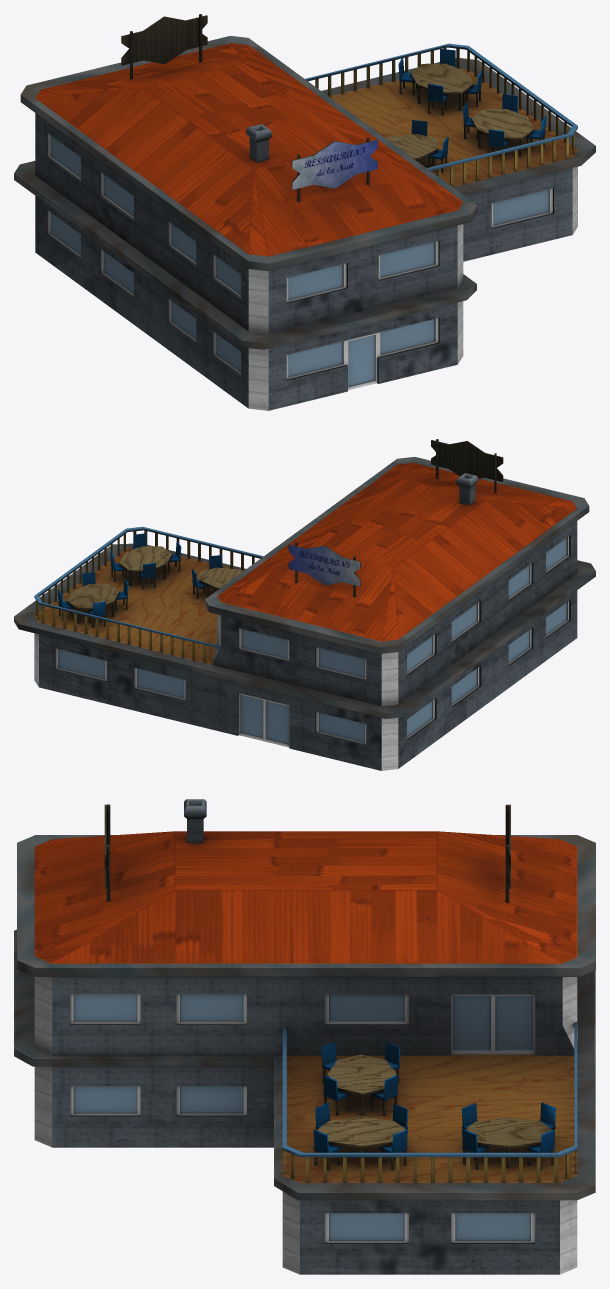
Rendered from restaurant.fbx.
3 renders of one model, top to bottom at view 1: azimuth 30°, elevation 25°; view 2: azimuth 150°, elevation 25°; view 3: azimuth 270°, elevation 25°, orthographic. The views are drawn at different scales.
Parts seen in each view (by area): view 1: Store5; view 2: Store5; view 3: Store5.
Part boxes in pixels (left/top/right/bottom): Store5: left=14, top=14, right=595, bottom=410; Store5: left=14, top=439, right=595, bottom=770; Store5: left=14, top=799, right=595, bottom=1274.
Size of the model in its own units: 1769 by 817 by 1612.
